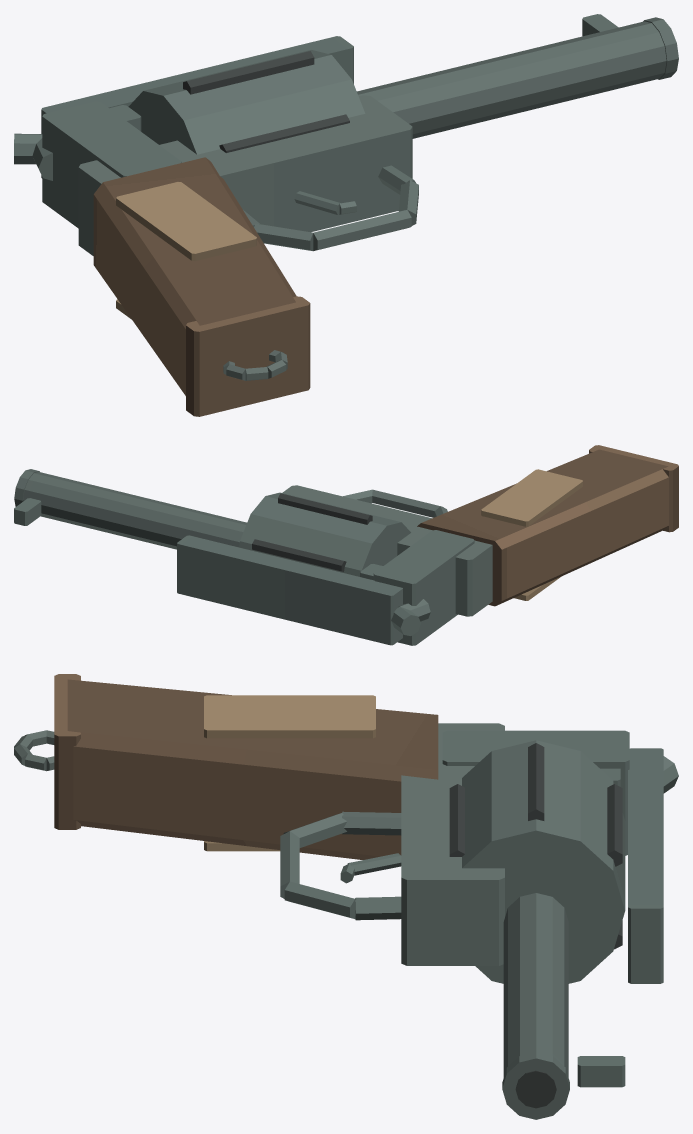
Rendered from weapon-colt-new-service.glb.
The picture shows the model from 3 angles, top to bottom: view 1: azimuth 30°, elevation 25°; view 2: azimuth 150°, elevation 25°; view 3: azimuth 270°, elevation 25°; orthographic projection. The views are drawn at different scales.
Parts seen in each view (by area): view 1: weapon-colt-new-service/eight-sided-wood-grip, weapon-colt-new-service/lower-frame, weapon-colt-new-service/barrel, weapon-colt-new-service/fluted-cylinder, weapon-colt-new-service/eight-sided-wood-grip-heel, weapon-colt-new-service/frame-rear, weapon-colt-new-service/grip-plaque-left, weapon-colt-new-service/continuous-top-strap, weapon-colt-new-service/cylinder-long-flute-3, weapon-colt-new-service/hollow-trigger-guard-4, weapon-colt-new-service/cylinder-long-flute-4, weapon-colt-new-service/hollow-trigger-guard-5 (+4 smaller); view 2: weapon-colt-new-service/eight-sided-wood-grip, weapon-colt-new-service/continuous-top-strap, weapon-colt-new-service/barrel, weapon-colt-new-service/fluted-cylinder, weapon-colt-new-service/frame-rear, weapon-colt-new-service/lower-frame, weapon-colt-new-service/grip-plaque-left, weapon-colt-new-service/eight-sided-wood-grip-heel, weapon-colt-new-service/cylinder-long-flute-2, weapon-colt-new-service/cylinder-long-flute-3, weapon-colt-new-service/hollow-trigger-guard-4, weapon-colt-new-service/external-hammer-2 (+3 smaller); view 3: weapon-colt-new-service/eight-sided-wood-grip, weapon-colt-new-service/fluted-cylinder, weapon-colt-new-service/lower-frame, weapon-colt-new-service/barrel, weapon-colt-new-service/continuous-top-strap, weapon-colt-new-service/grip-plaque-left, weapon-colt-new-service/frame-rear, weapon-colt-new-service/eight-sided-wood-grip-heel, weapon-colt-new-service/barrel-end-rim, weapon-colt-new-service/front-sight, weapon-colt-new-service/hollow-trigger-guard-3, weapon-colt-new-service/hollow-trigger-guard-6 (+8 smaller).
Part boxes in pixels (left/top/right/bottom): weapon-colt-new-service/eight-sided-wood-grip: left=93, top=157, right=296, bottom=395; weapon-colt-new-service/lower-frame: left=78, top=95, right=412, bottom=255; weapon-colt-new-service/barrel: left=356, top=21, right=666, bottom=138; weapon-colt-new-service/fluted-cylinder: left=128, top=50, right=365, bottom=154; weapon-colt-new-service/eight-sided-wood-grip-heel: left=186, top=296, right=310, bottom=416; weapon-colt-new-service/frame-rear: left=42, top=101, right=181, bottom=228; weapon-colt-new-service/grip-plaque-left: left=116, top=182, right=256, bottom=261; weapon-colt-new-service/continuous-top-strap: left=41, top=36, right=353, bottom=178; weapon-colt-new-service/cylinder-long-flute-3: left=183, top=51, right=314, bottom=94; weapon-colt-new-service/hollow-trigger-guard-4: left=313, top=210, right=411, bottom=250; weapon-colt-new-service/cylinder-long-flute-4: left=219, top=114, right=349, bottom=152; weapon-colt-new-service/hollow-trigger-guard-5: left=254, top=223, right=313, bottom=250; weapon-colt-new-service/eight-sided-wood-grip: left=417, top=449, right=668, bottom=606; weapon-colt-new-service/continuous-top-strap: left=177, top=535, right=402, bottom=645; weapon-colt-new-service/barrel: left=23, top=472, right=246, bottom=549; weapon-colt-new-service/fluted-cylinder: left=239, top=492, right=410, bottom=576; weapon-colt-new-service/frame-rear: left=373, top=530, right=474, bottom=645; weapon-colt-new-service/lower-frame: left=282, top=485, right=492, bottom=616; weapon-colt-new-service/grip-plaque-left: left=481, top=469, right=582, bottom=526; weapon-colt-new-service/eight-sided-wood-grip-heel: left=589, top=445, right=678, bottom=532; weapon-colt-new-service/cylinder-long-flute-2: left=252, top=539, right=346, bottom=571; weapon-colt-new-service/cylinder-long-flute-3: left=278, top=493, right=372, bottom=524; weapon-colt-new-service/hollow-trigger-guard-4: left=372, top=489, right=443, bottom=517; weapon-colt-new-service/external-hammer-2: left=391, top=607, right=420, bottom=635; weapon-colt-new-service/eight-sided-wood-grip: left=67, top=679, right=438, bottom=859; weapon-colt-new-service/fluted-cylinder: left=462, top=740, right=625, bottom=983; weapon-colt-new-service/lower-frame: left=401, top=723, right=504, bottom=965; weapon-colt-new-service/barrel: left=503, top=893, right=568, bottom=1077; weapon-colt-new-service/continuous-top-strap: left=628, top=748, right=663, bottom=983; weapon-colt-new-service/grip-plaque-left: left=204, top=695, right=375, bottom=738; weapon-colt-new-service/frame-rear: left=442, top=730, right=629, bottom=855; weapon-colt-new-service/eight-sided-wood-grip-heel: left=54, top=674, right=80, bottom=829; weapon-colt-new-service/barrel-end-rim: left=502, top=1052, right=569, bottom=1119; weapon-colt-new-service/front-sight: left=577, top=1056, right=625, bottom=1087; weapon-colt-new-service/hollow-trigger-guard-3: left=284, top=881, right=356, bottom=918; weapon-colt-new-service/hollow-trigger-guard-6: left=342, top=811, right=401, bottom=835.
Size of the model in its own units: 0.2944 by 0.0674 by 0.2242.
Materials: 4 (4 with a texture image).
